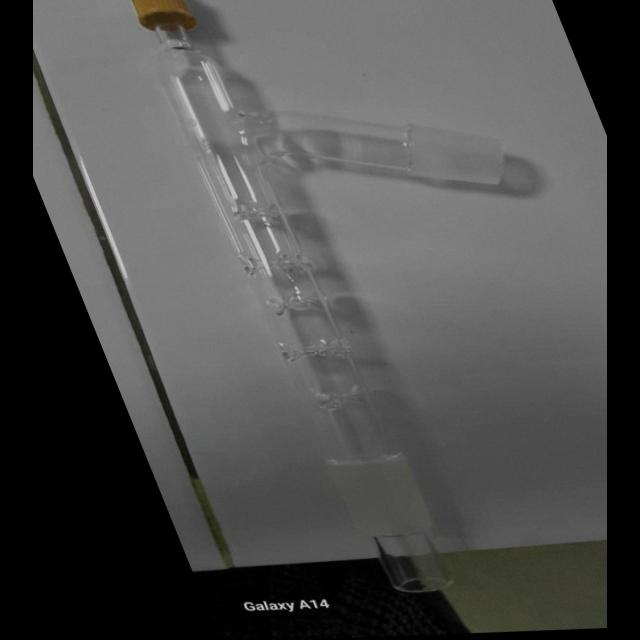Atmospherical Fractional Distillation: (83, 0, 607, 597)
